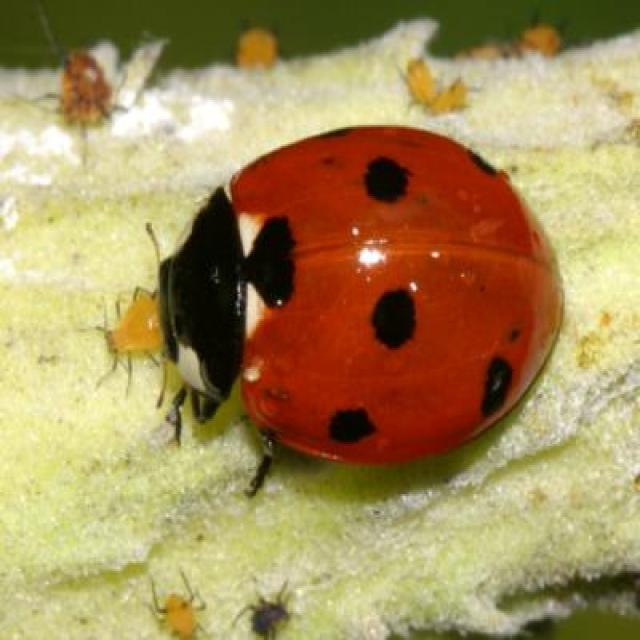antennae: (140, 216, 198, 420)
body: (162, 128, 562, 461)
insect: (148, 123, 565, 499)
legs: (172, 384, 296, 505)
wings: (232, 127, 562, 461)
